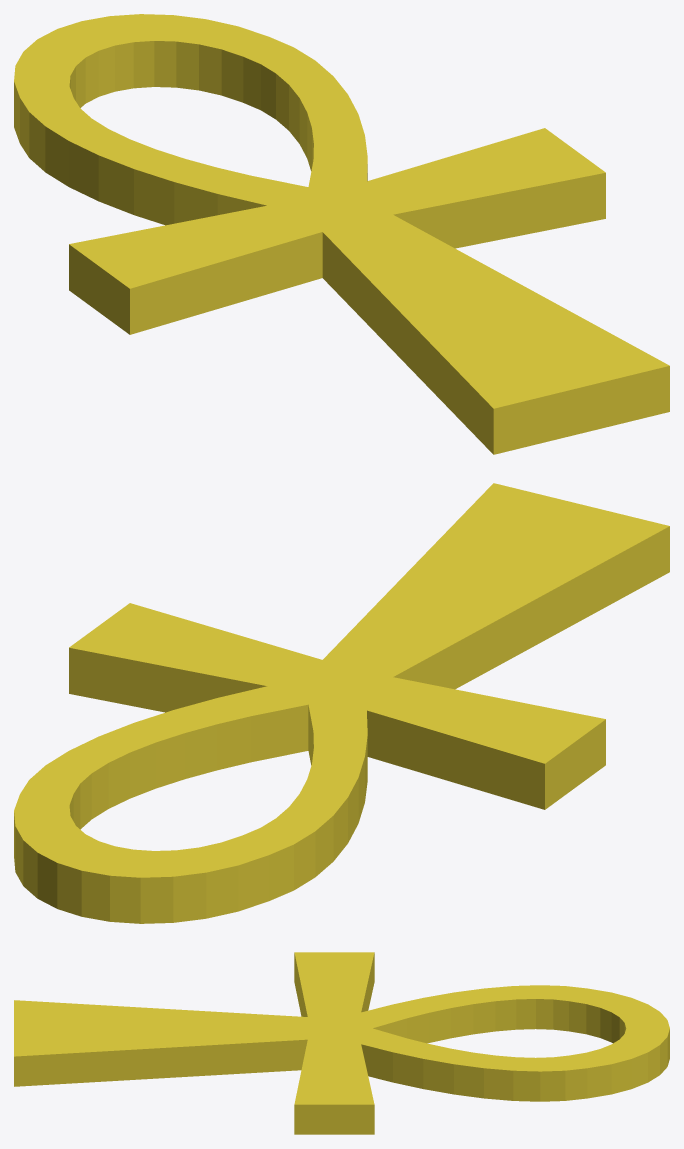
Rendered from ankh.fbx.
3 renders of one model, top to bottom at view 1: azimuth 30°, elevation 25°; view 2: azimuth 150°, elevation 25°; view 3: azimuth 270°, elevation 25°, orthographic. The views are drawn at different scales.
Visible parts, largest first — view 1: Ankh; view 2: Ankh; view 3: Ankh.
Part boxes in pixels (<box>): Ankh: <box>14,14,669,454</box>; Ankh: <box>14,483,669,923</box>; Ankh: <box>14,952,669,1134</box>.
Size of the model in its own units: 5400 by 500 by 9825.
